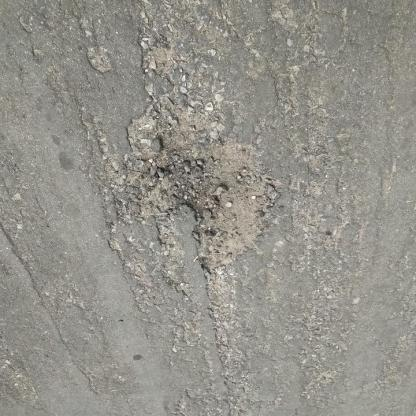pothole: (133, 100, 285, 275)
